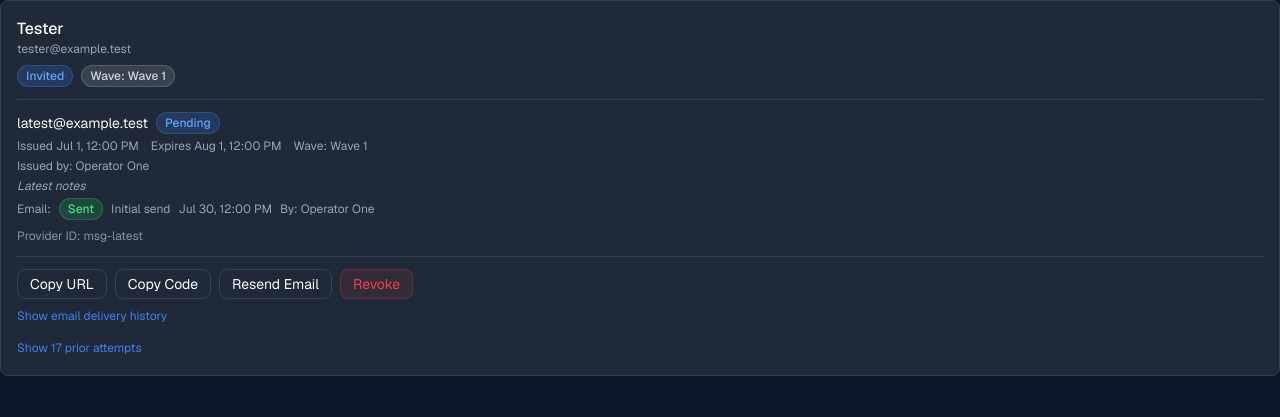
it: DeliveryHistoryDisclosure (#175) › shows the 'Not recorded' fallback for an empty history page rather than nothing
This screenshot has width=1280, height=417.
Click the button "Show email delivery history".
click(92, 316)  # box x1=17 y1=308 x2=167 y2=324
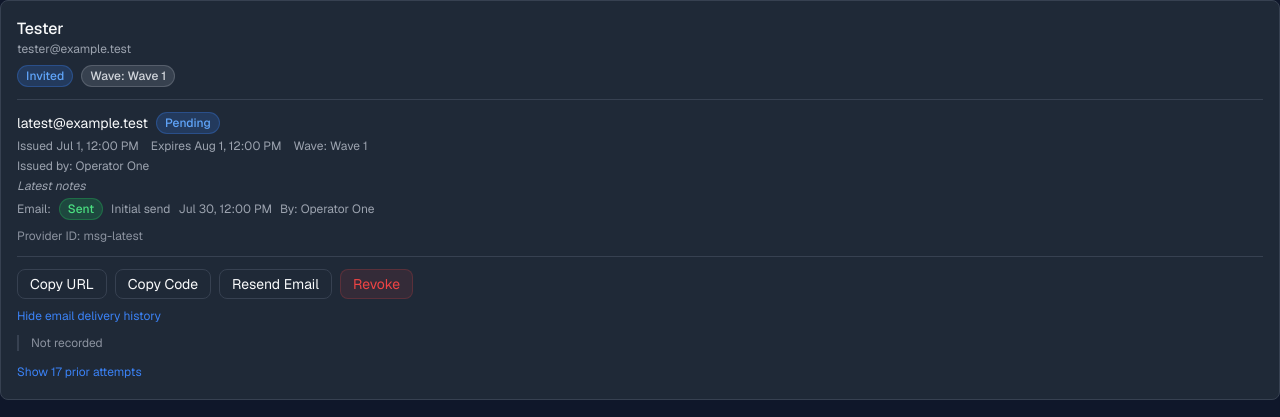
Now the text "Not recorded" is shown, box x1=31 y1=335 x2=103 y2=351
